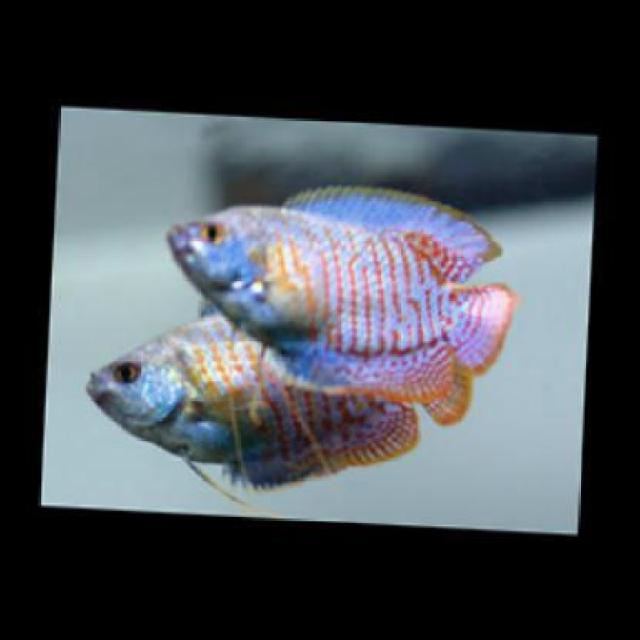Gourami: (166, 177, 514, 401)
